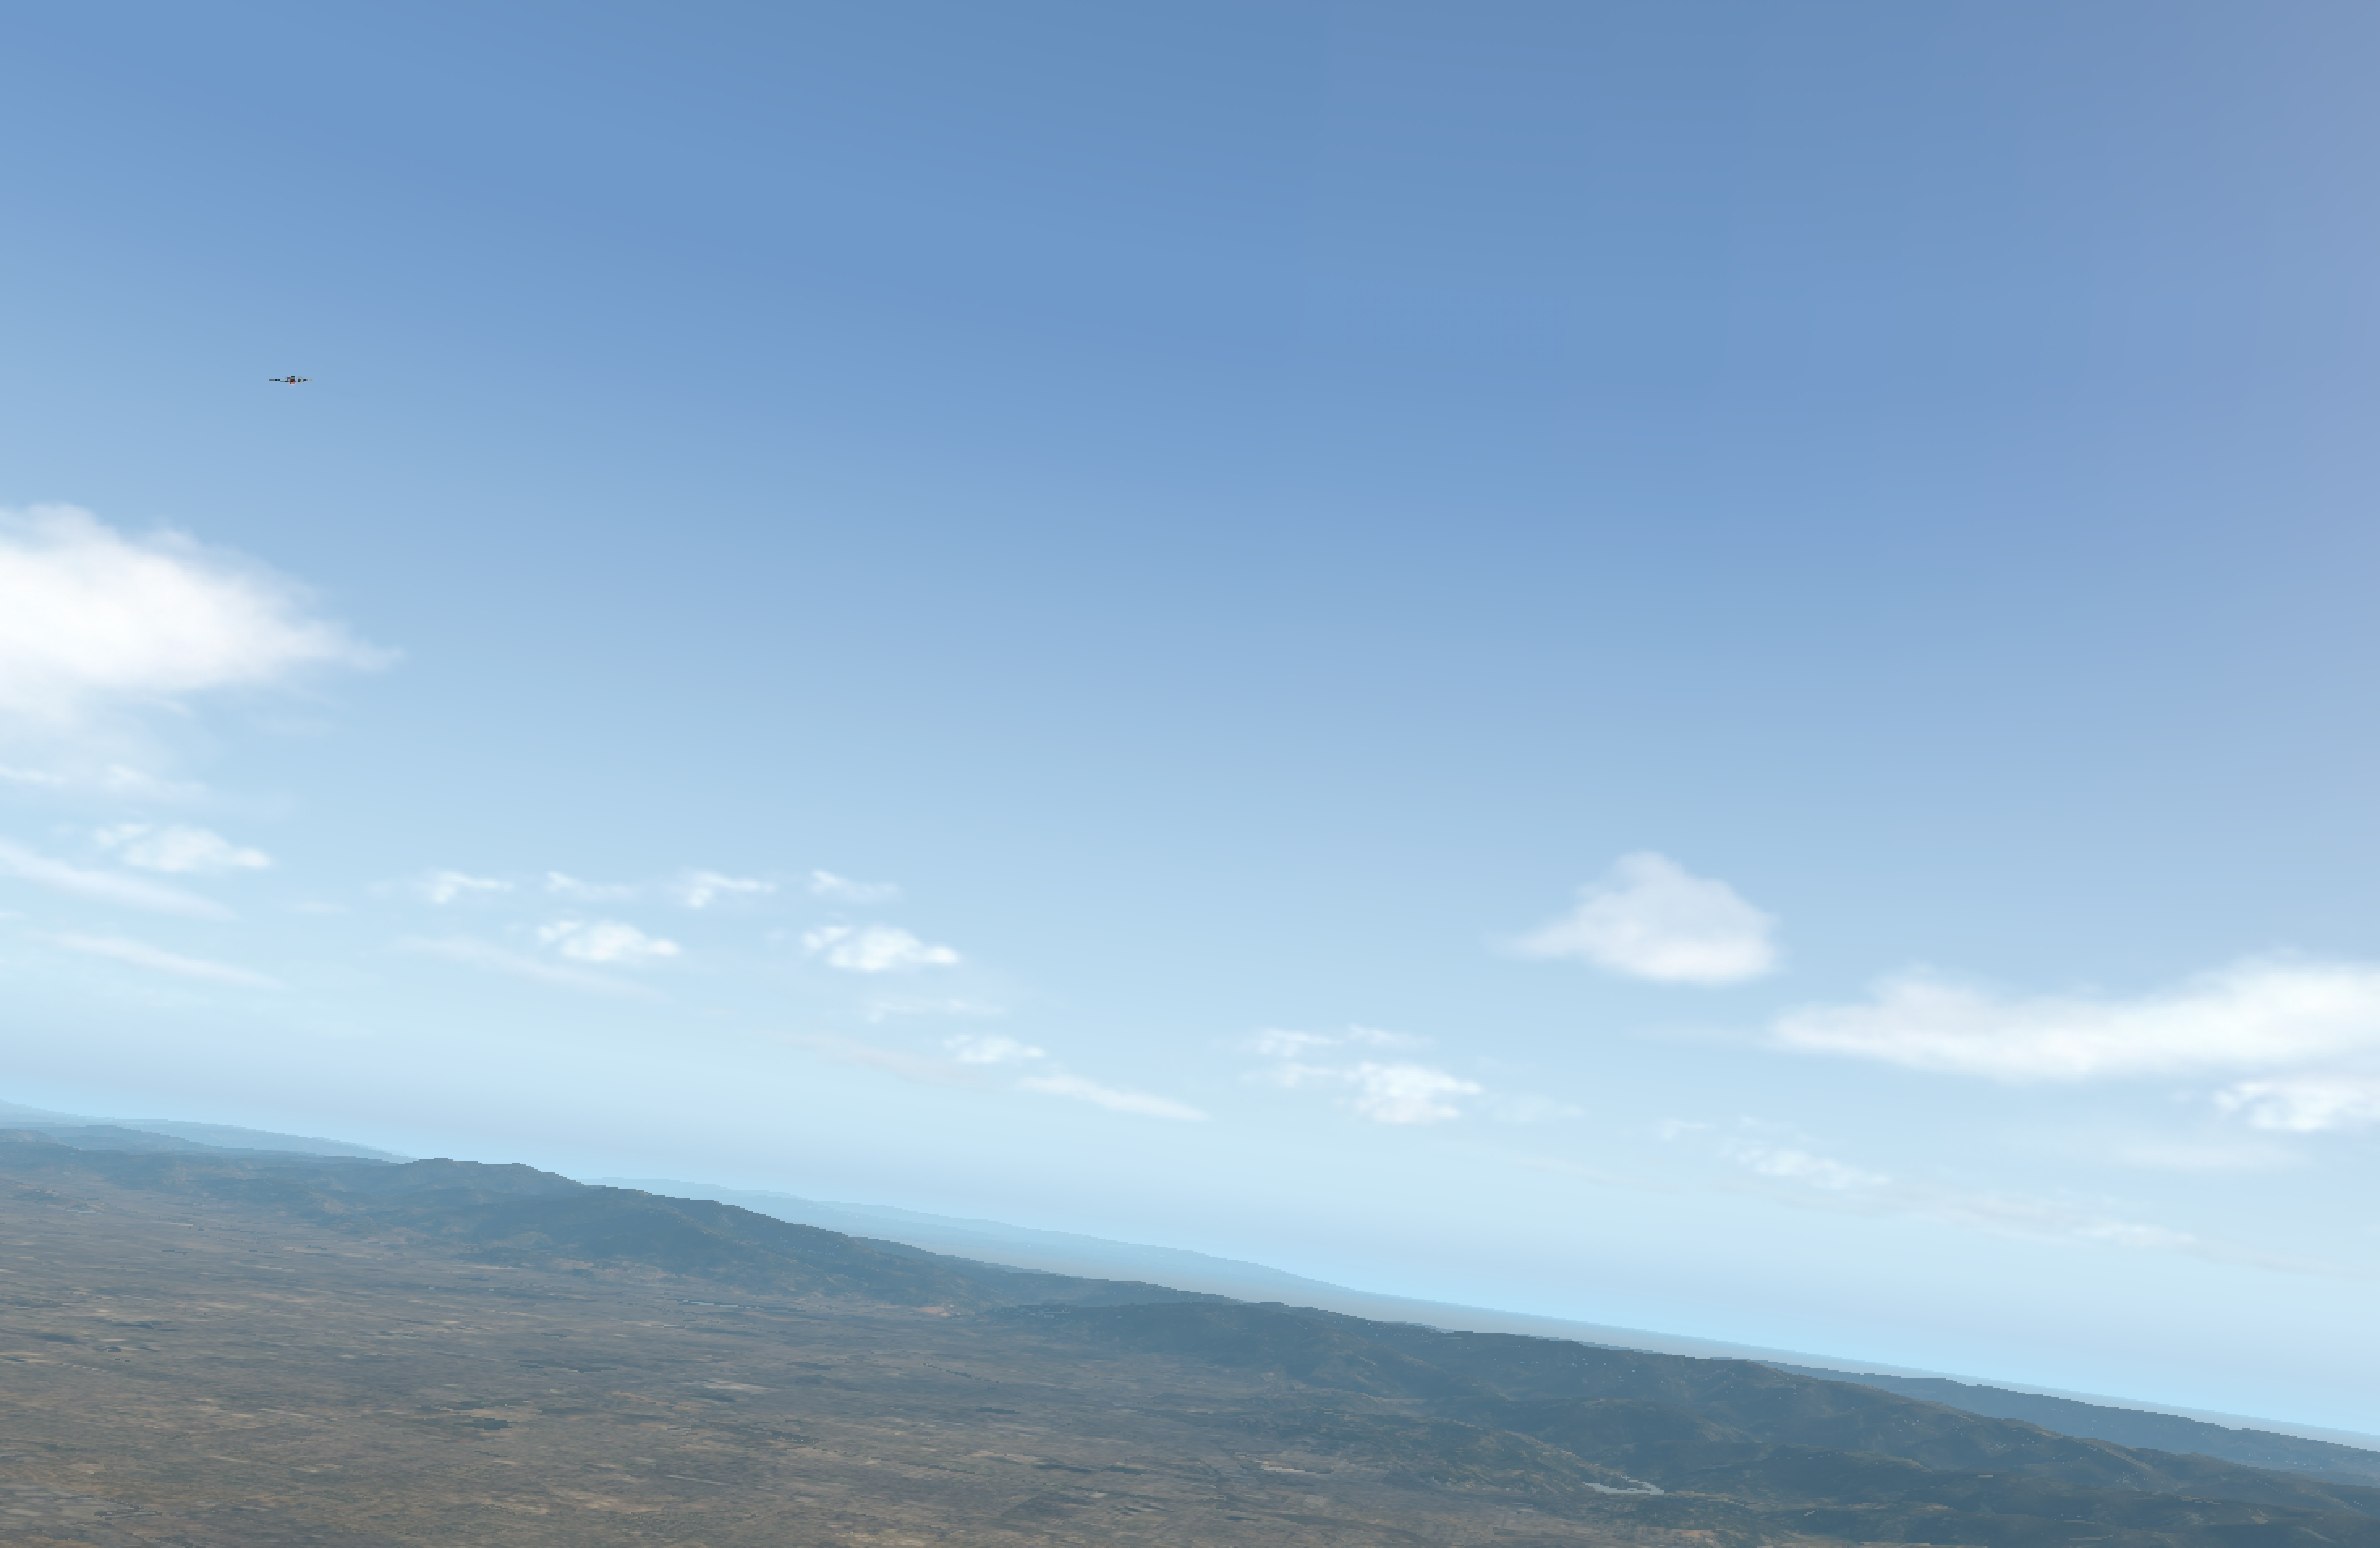aircraft: (272, 373, 314, 389)
